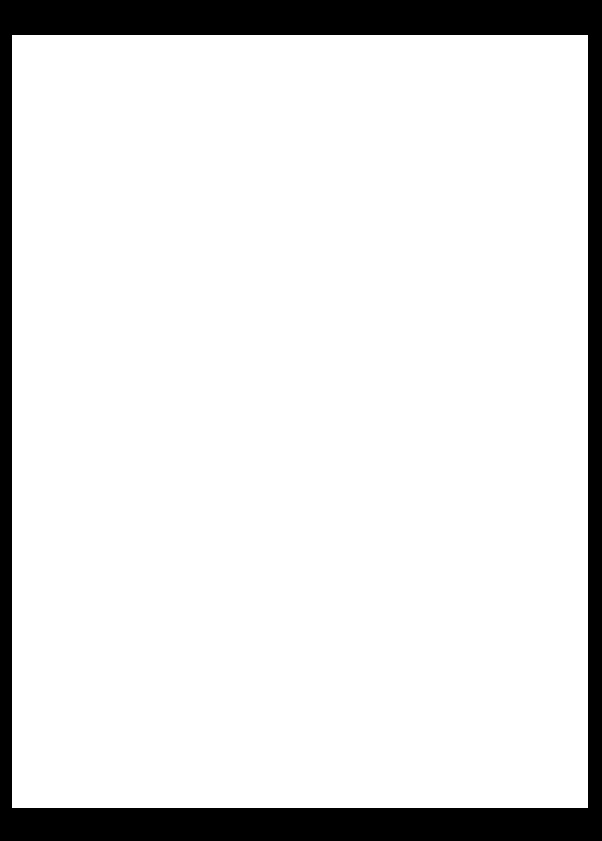table: (12, 35, 587, 807)
